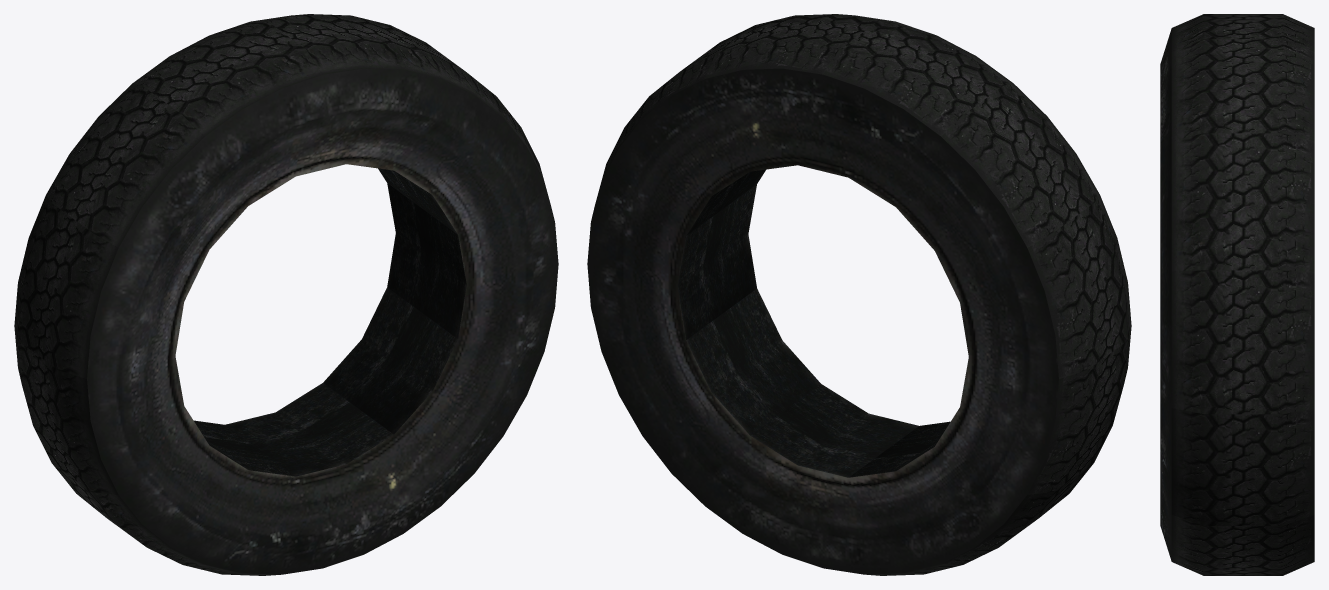
Rendered from Roue3.obj.
3 views of the same model, side by side, from view 1: azimuth 30°, elevation 25°; view 2: azimuth 150°, elevation 25°; view 3: azimuth 270°, elevation 25° (orthographic).
Parts seen in each view (by area): view 1: Roue2; view 2: Roue2; view 3: Roue2.
Part boxes in pixels (x1,y1,x2,y2): Roue2: [14, 14, 558, 575]; Roue2: [587, 14, 1131, 575]; Roue2: [1160, 14, 1314, 575].
Bounding box in the file's own units: 2.53 × 2.53 × 0.693.
1 material, 1 textured.
